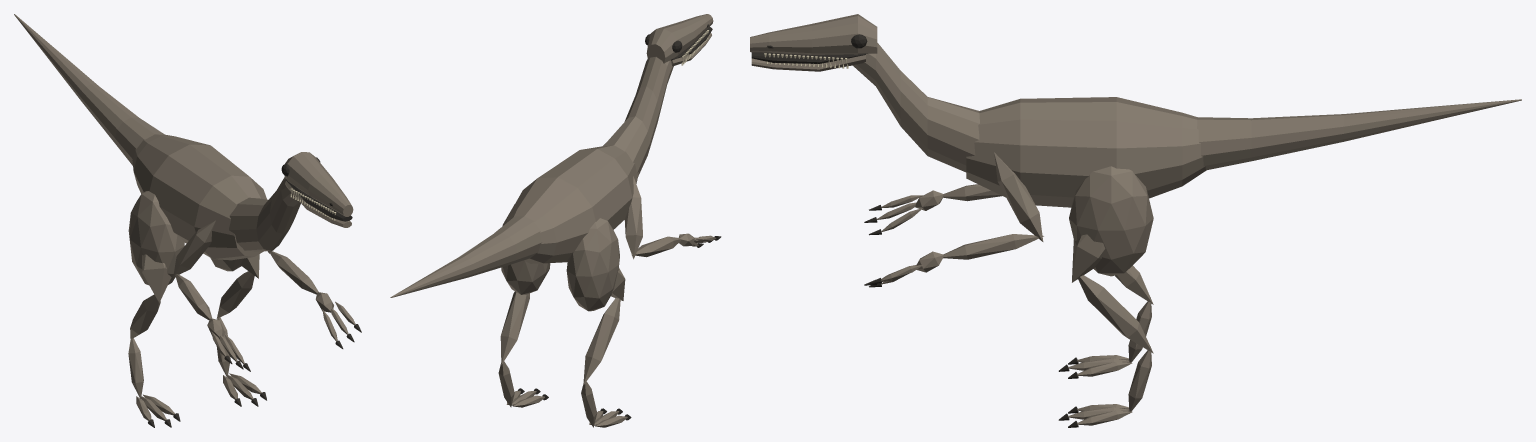
The picture shows the model from 3 angles, left to right: view 1: azimuth 30°, elevation 25°; view 2: azimuth 150°, elevation 25°; view 3: azimuth 270°, elevation 25°; orthographic projection. The views are drawn at different scales.
Parts seen in each view (by area): view 1: surface_warm_gray_brown, surface_eyes_mouth_claws; view 2: surface_warm_gray_brown, surface_eyes_mouth_claws; view 3: surface_warm_gray_brown, surface_eyes_mouth_claws.
Part boxes in pixels (box(x1,y1,x2,y2)): surface_warm_gray_brown: box(14, 14, 355, 420); surface_eyes_mouth_claws: box(148, 157, 361, 427); surface_warm_gray_brown: box(390, 14, 716, 427); surface_eyes_mouth_claws: box(517, 24, 721, 420); surface_warm_gray_brown: box(750, 14, 1521, 425); surface_eyes_mouth_claws: box(751, 34, 1078, 427).
Bounding box in the file's own units: 0.232 × 0.5437 × 1.
